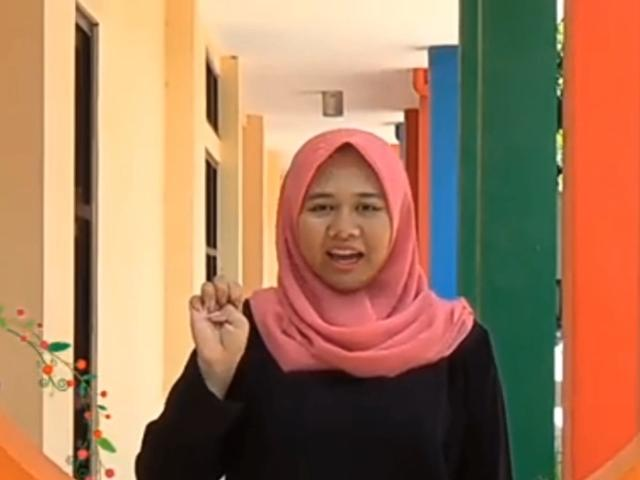E: (187, 271, 251, 372)
